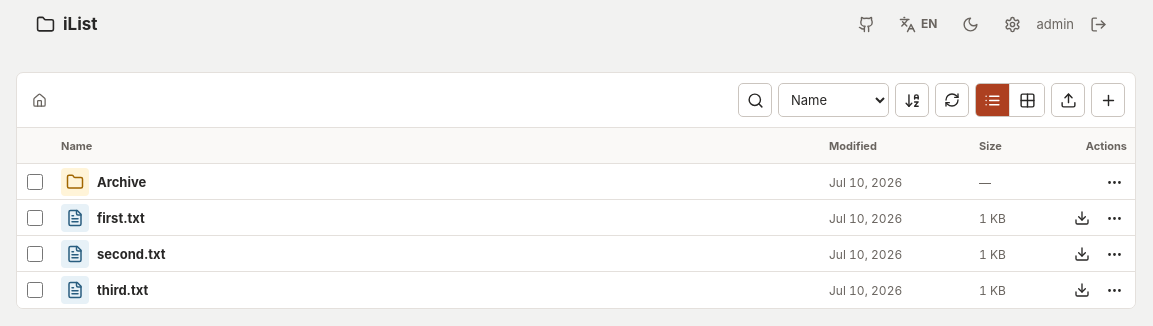
Test case: explorer collection interactions › uses modifier clicks on entry names for toggle and range selection without opening
Click the button with aria-label "Open first.txt".
click(121, 218)  # box [53, 200, 821, 236]
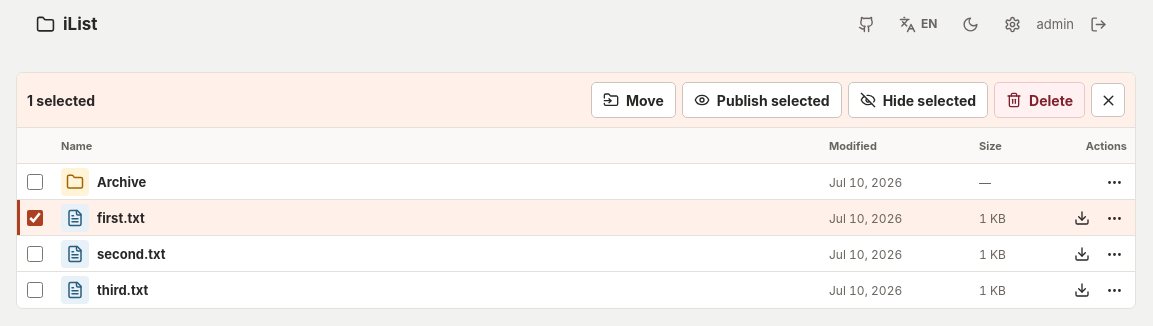
expect the text "1 selected" is shown: met, box [27, 92, 95, 108]
Click the button with aria-label "Open third.txt".
click(123, 290)  # box [53, 272, 821, 308]
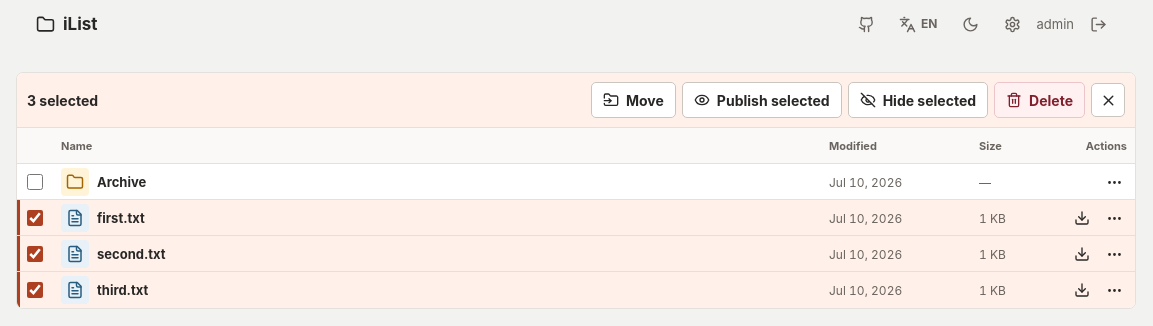
expect the text "3 selected" is shown: met, box [27, 92, 98, 108]
